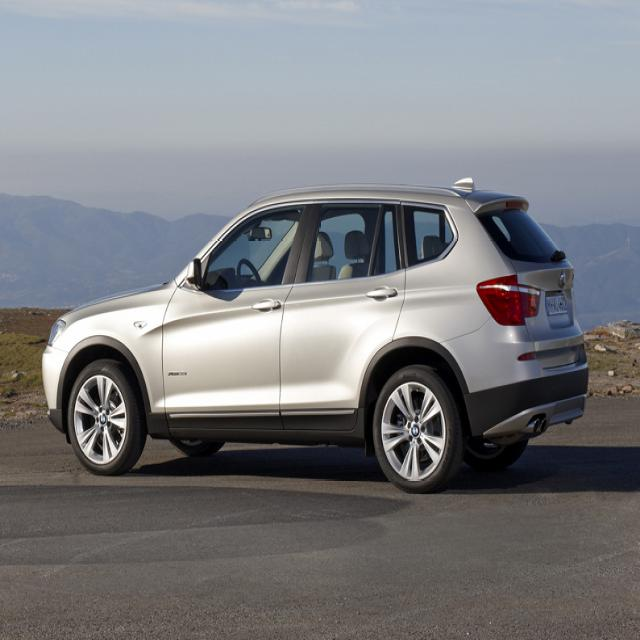car: (41, 175, 589, 489)
